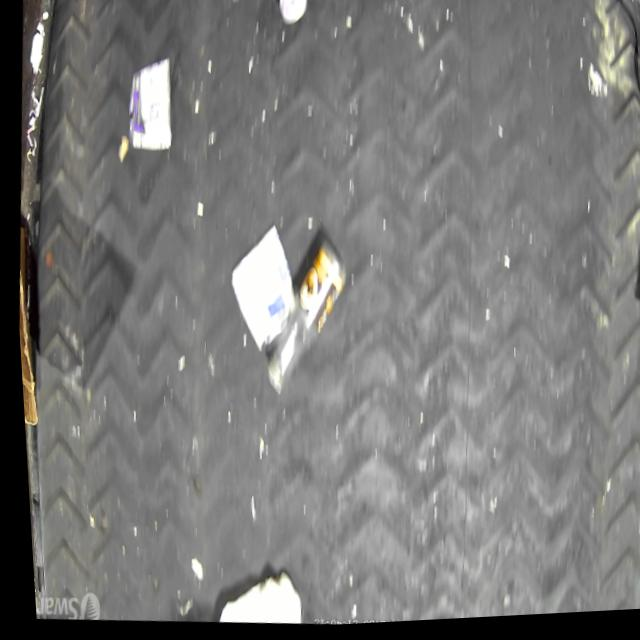can: (217, 222, 297, 358), (120, 55, 174, 154)
plastic_bottle: (252, 234, 349, 402)
